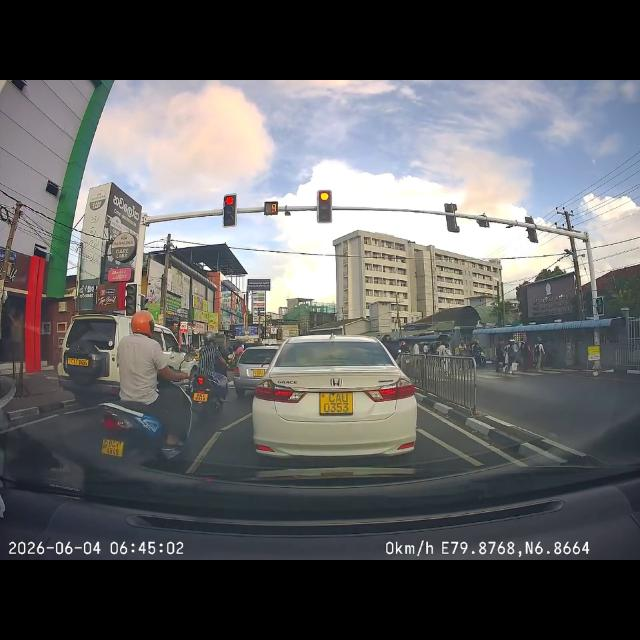car: (282, 346, 400, 450), (56, 320, 108, 390), (244, 347, 274, 383)
helmet: (129, 316, 155, 334), (199, 330, 213, 346)
motorcycle: (101, 406, 195, 464), (198, 382, 225, 402)
number_plate: (318, 392, 354, 418), (100, 429, 134, 455)
person: (126, 312, 166, 412), (204, 334, 226, 388)
traffic_light: (223, 194, 234, 228)
